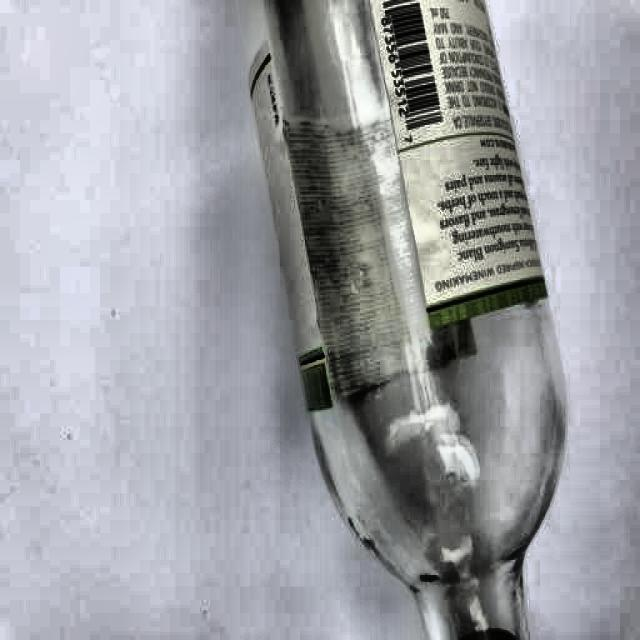glass: (260, 8, 570, 640)
